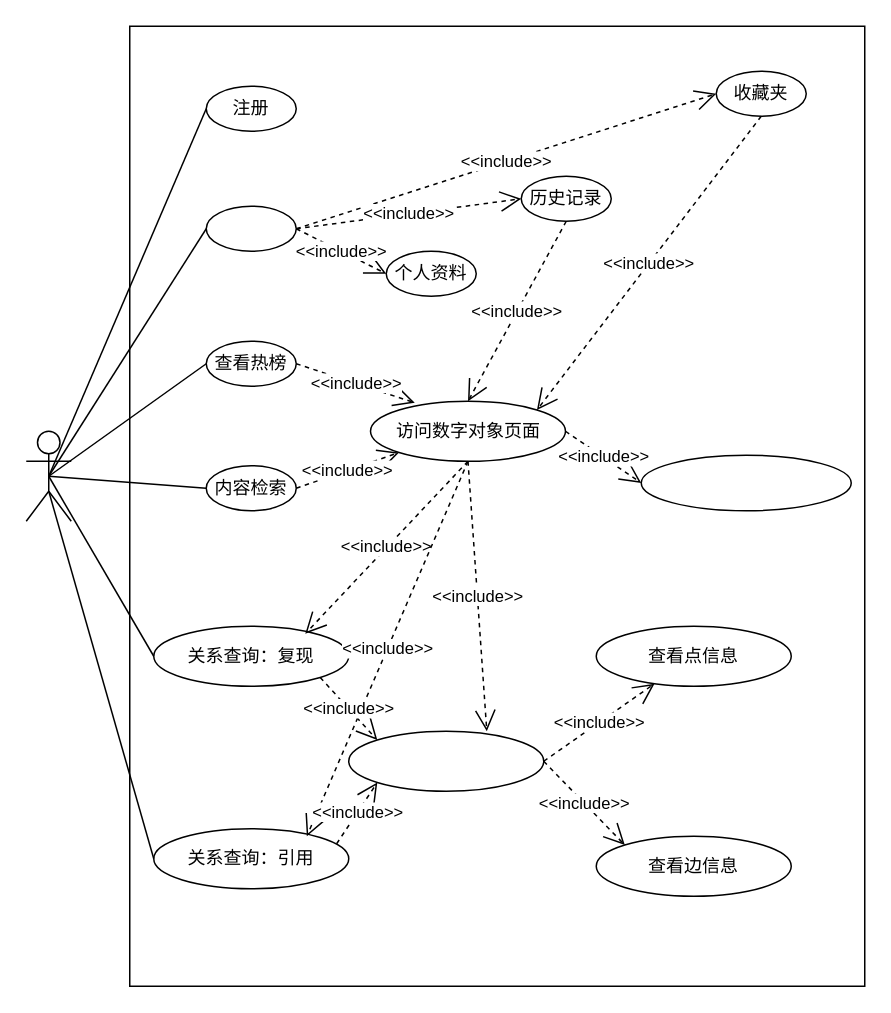
This 891x1013 diagram has some shape labels left out. Each missing label, with the centre of its shape:
"收藏/ 取消收藏 数字对象" belongs at pixel 745 482.
"查看对象关系图" belongs at pixel 445 760.
"用户" belongs at pixel 48 475.
"登录" belongs at pixel 250 228.
